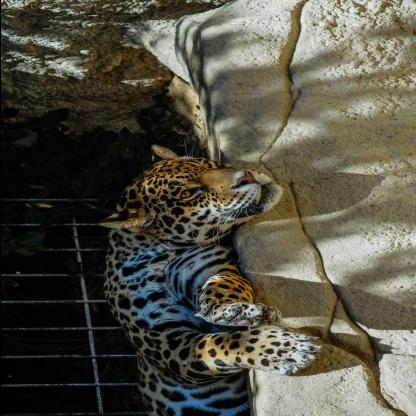leopard: (101, 144, 291, 238)
